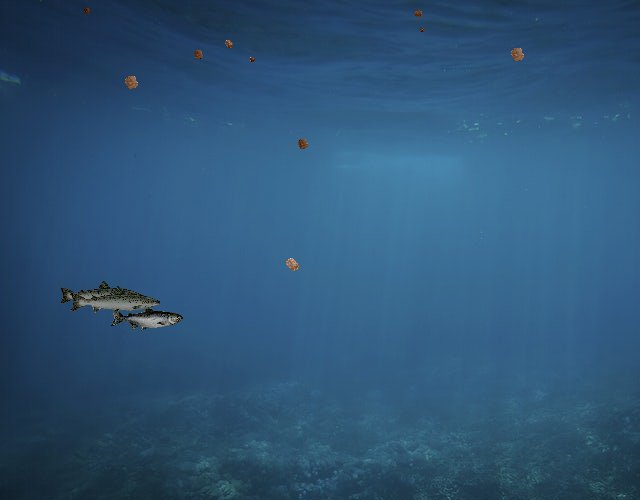Fish: (68, 284, 162, 318), (58, 279, 144, 310), (111, 305, 184, 332)
Pellet: (278, 251, 306, 279), (117, 69, 145, 97), (292, 133, 314, 155), (220, 35, 238, 53), (246, 53, 258, 65)
